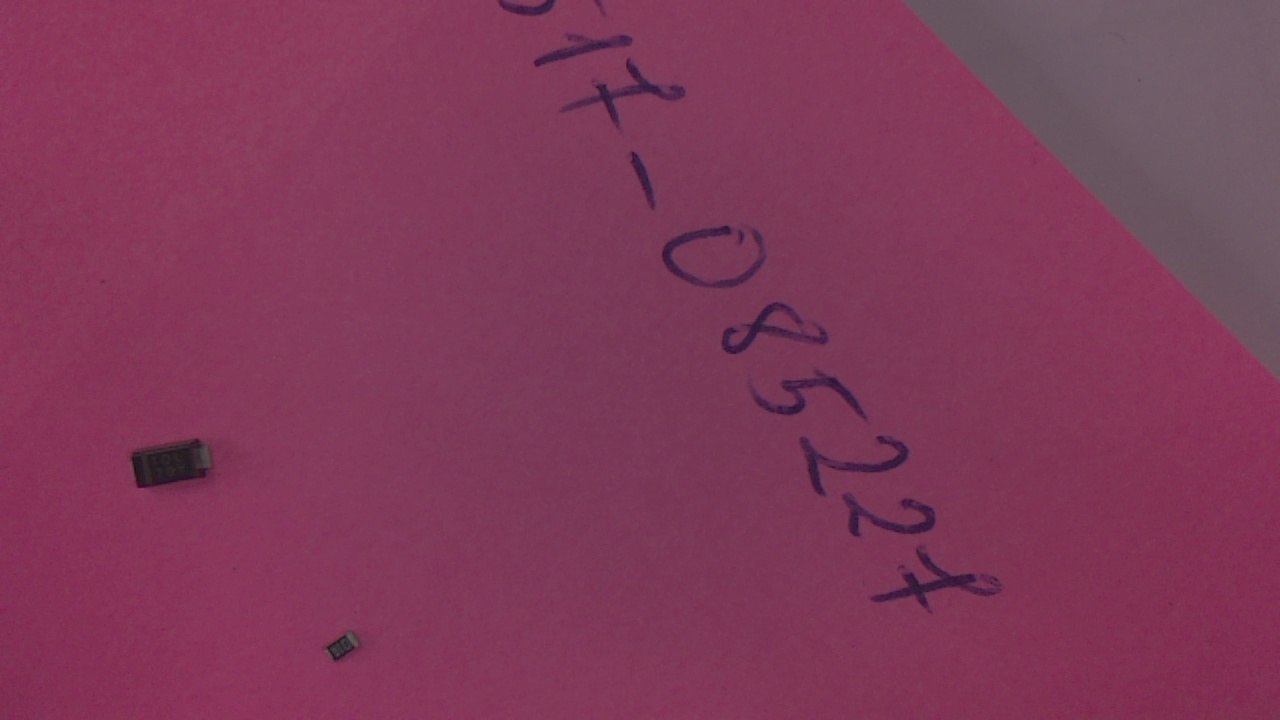Diode: (131, 437, 219, 496)
Resistor: (329, 632, 365, 672)
